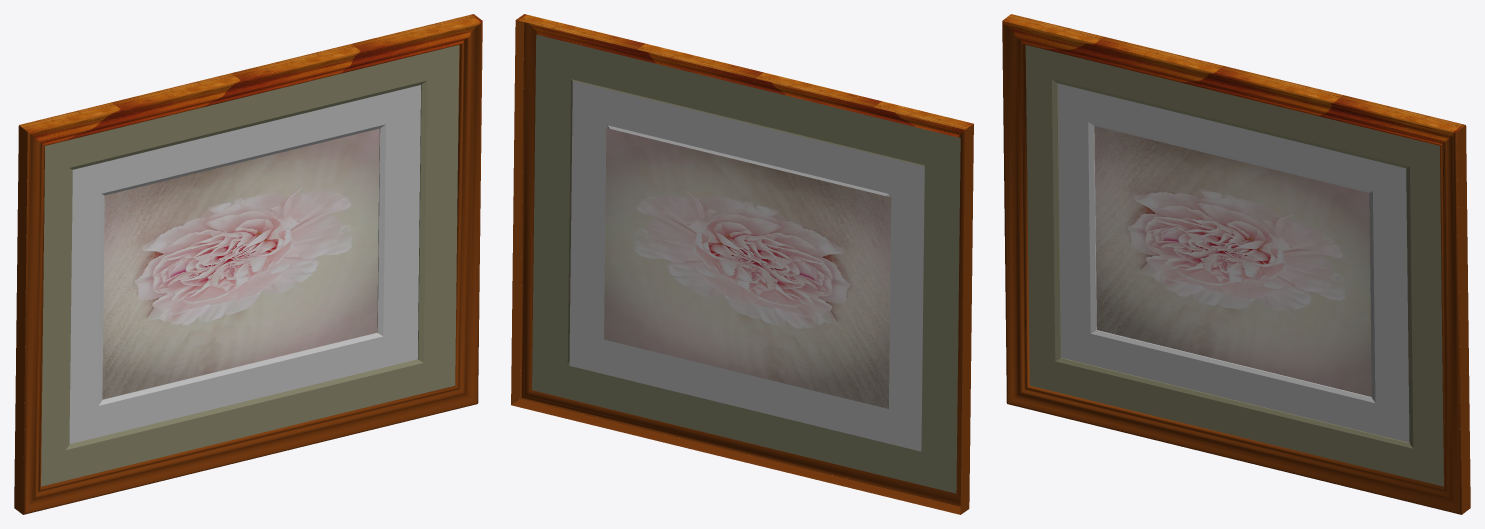
The model's file is painting.glb.
3 views of the same model, side by side, from view 1: azimuth 30°, elevation 25°; view 2: azimuth 150°, elevation 25°; view 3: azimuth 330°, elevation 25° (orthographic).
Parts seen in each view (by area): view 1: Painting, PaintingBack, MattePaint_0008, TableWood_0002, TableWood_0001; view 2: Painting, PaintingBack, MattePaint_0008, TableWood_0002, TableWood_0001; view 3: Painting, PaintingBack, MattePaint_0008, TableWood_0002, TableWood_0001.
Boxes of the visible parts, x1,y1,x2,y2 form: Painting: (102, 128, 379, 399); PaintingBack: (41, 45, 459, 486); MattePaint_0008: (69, 85, 420, 443); TableWood_0002: (23, 21, 482, 514); TableWood_0001: (14, 14, 482, 514); Painting: (604, 128, 891, 408); PaintingBack: (532, 34, 960, 493); MattePaint_0008: (569, 81, 924, 451); TableWood_0002: (520, 22, 964, 506); TableWood_0001: (511, 14, 973, 514); Painting: (1094, 126, 1371, 396); PaintingBack: (1025, 45, 1443, 486); MattePaint_0008: (1058, 83, 1409, 442); TableWood_0002: (1002, 21, 1461, 514); TableWood_0001: (1002, 14, 1470, 514).
Bounding box in the file's own units: 1 × 0.8127 × 0.0535.
3 materials, 3 textured.
